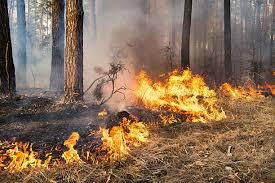fire: (137, 65, 225, 125)
